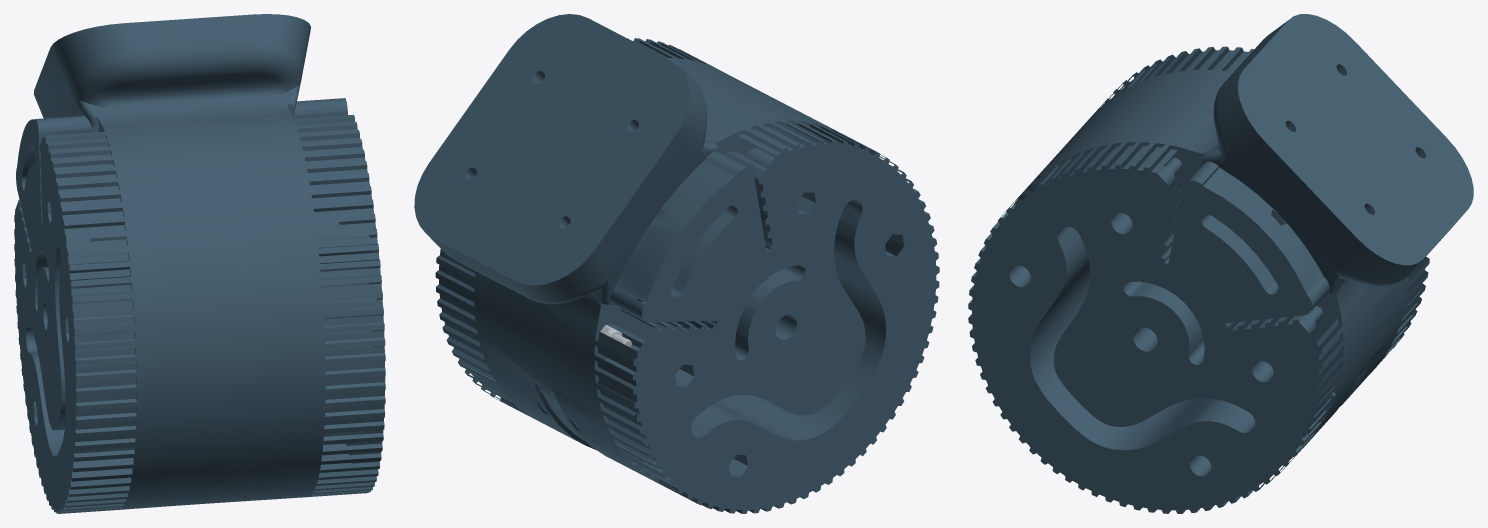
File: upper_arm_LOD0.fbx
The picture shows the model from 3 angles, left to right: view 1: azimuth 30°, elevation 25°; view 2: azimuth 150°, elevation 25°; view 3: azimuth 270°, elevation 25°; orthographic projection. The views are drawn at different scales.
Visible parts, largest first — view 1: MM_moveo_2m2ha_ff356c135b, MM_moveo_2m2ma_7036002665; view 2: MM_moveo_2m2ha_ff356c135b, MM_moveo_2m2ma_7036002665; view 3: MM_moveo_2m2ma_7036002665, MM_moveo_2m2ha_ff356c135b.
Part boxes in pixels (x1,y1,x2,y2): MM_moveo_2m2ha_ff356c135b: (14,19,231,513); MM_moveo_2m2ma_7036002665: (188,14,385,502); MM_moveo_2m2ha_ff356c135b: (474,40,939,513); MM_moveo_2m2ma_7036002665: (414,14,779,462); MM_moveo_2m2ma_7036002665: (968,45,1445,513); MM_moveo_2m2ha_ff356c135b: (1059,14,1473,406).
Size of the model in its own units: 0.1316 by 0.1458 by 0.1598.
